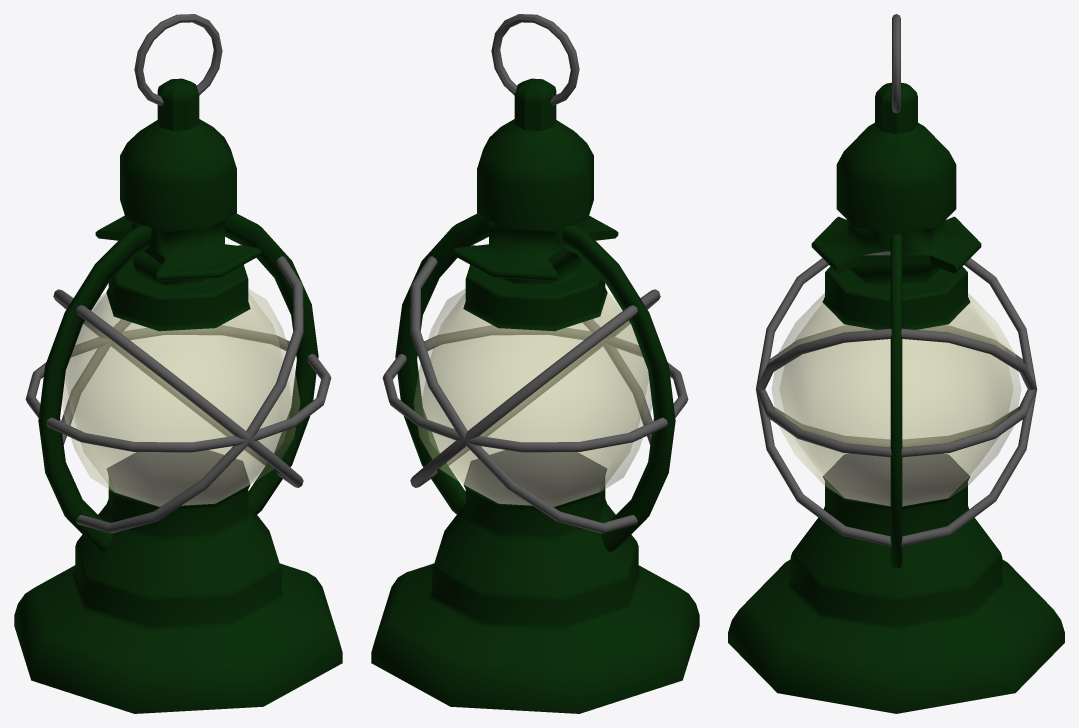
The model's file is Lantern1.fbx.
3 renders of one model, left to right at view 1: azimuth 30°, elevation 25°; view 2: azimuth 150°, elevation 25°; view 3: azimuth 270°, elevation 25°, orthographic.
Visible parts, largest first — view 1: Lantern1:polySurface9; view 2: Lantern1:polySurface9; view 3: Lantern1:polySurface9.
Part boxes in pixels (x1,y1,x2,y2): Lantern1:polySurface9: [14, 14, 342, 713]; Lantern1:polySurface9: [371, 14, 699, 713]; Lantern1:polySurface9: [728, 14, 1064, 713].
Size of the model in its own units: 1.48 by 3.03 by 1.48.
